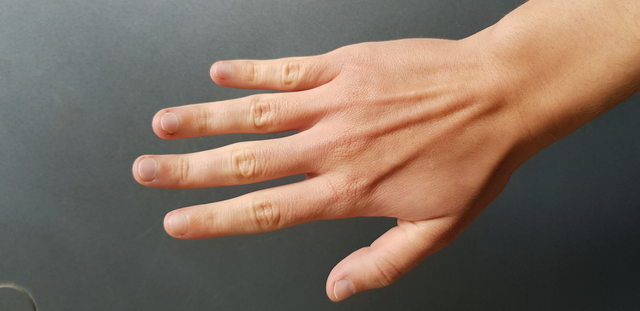Paper: (116, 36, 543, 304)
